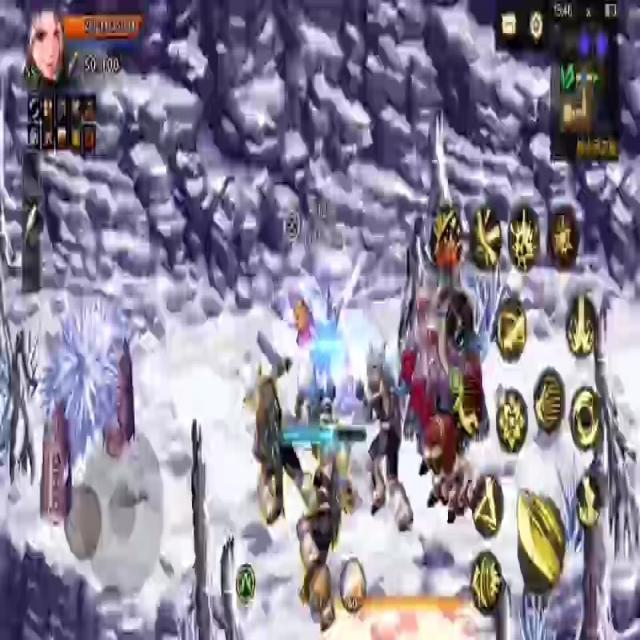player: (286, 283, 349, 426)
